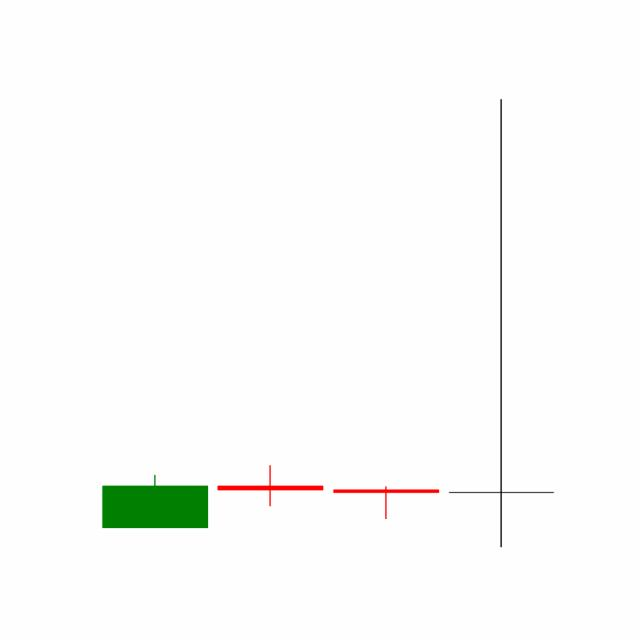Hammer: (328, 485, 444, 519)
